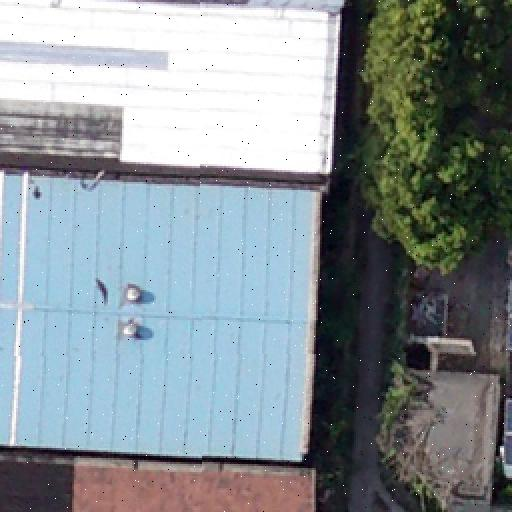solar-panel: (504, 398, 512, 466), (505, 282, 511, 350)
